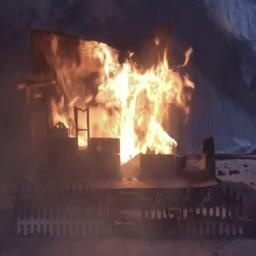fire: (43, 36, 194, 154)
